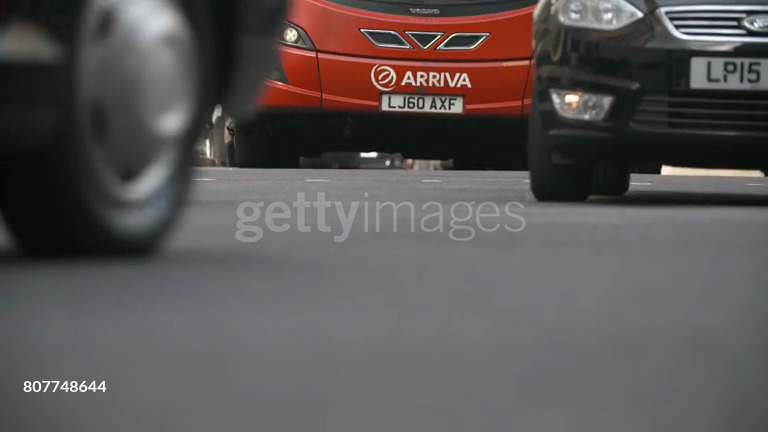car number: (688, 55, 767, 88), (379, 91, 464, 112)
